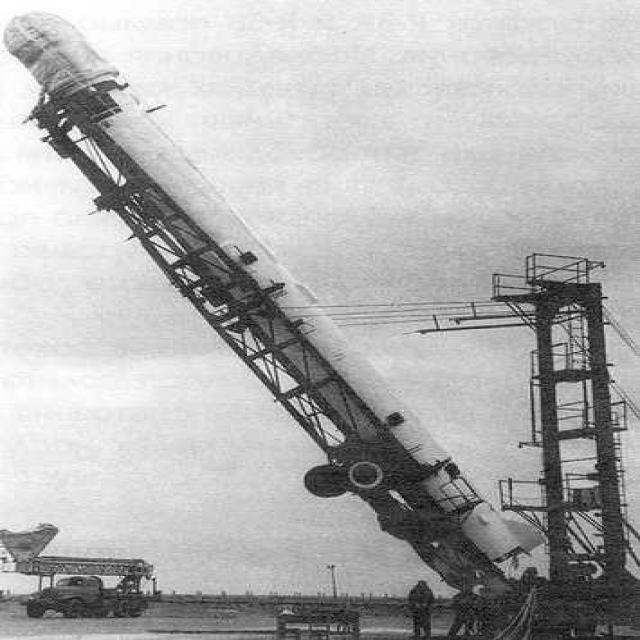missile: (8, 9, 534, 557)
